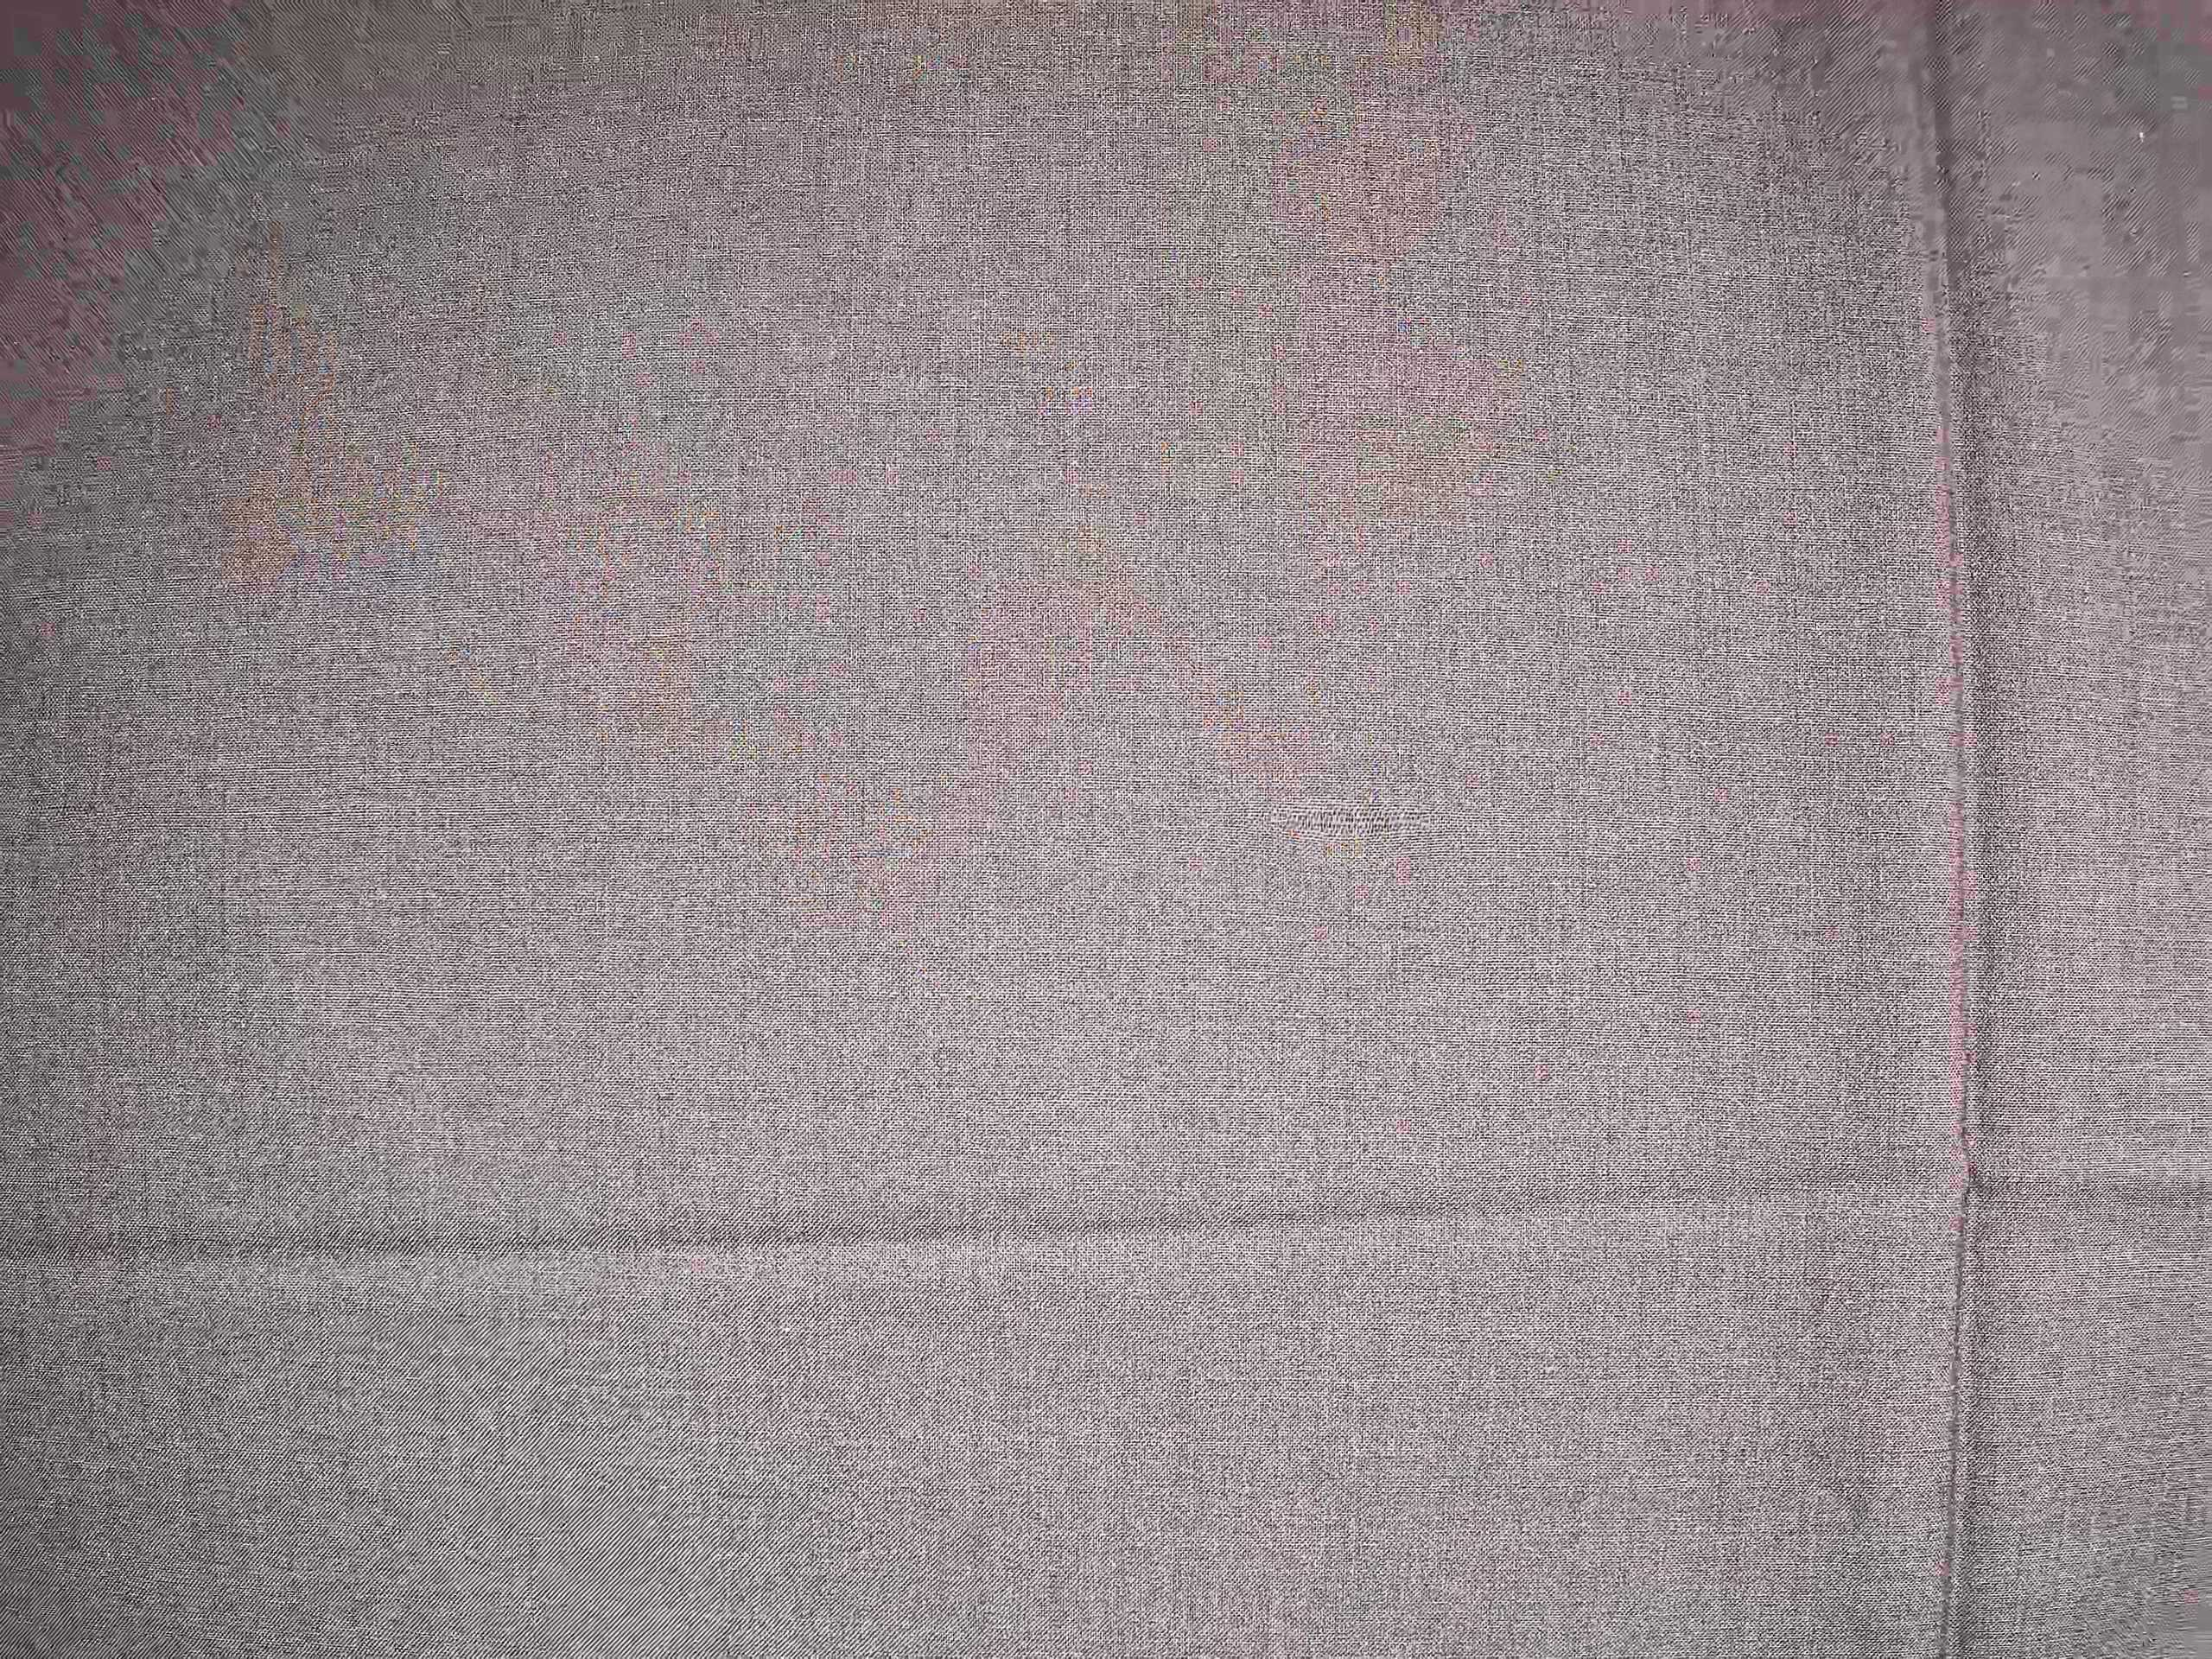thin-spinning: (1249, 767, 1463, 864)
